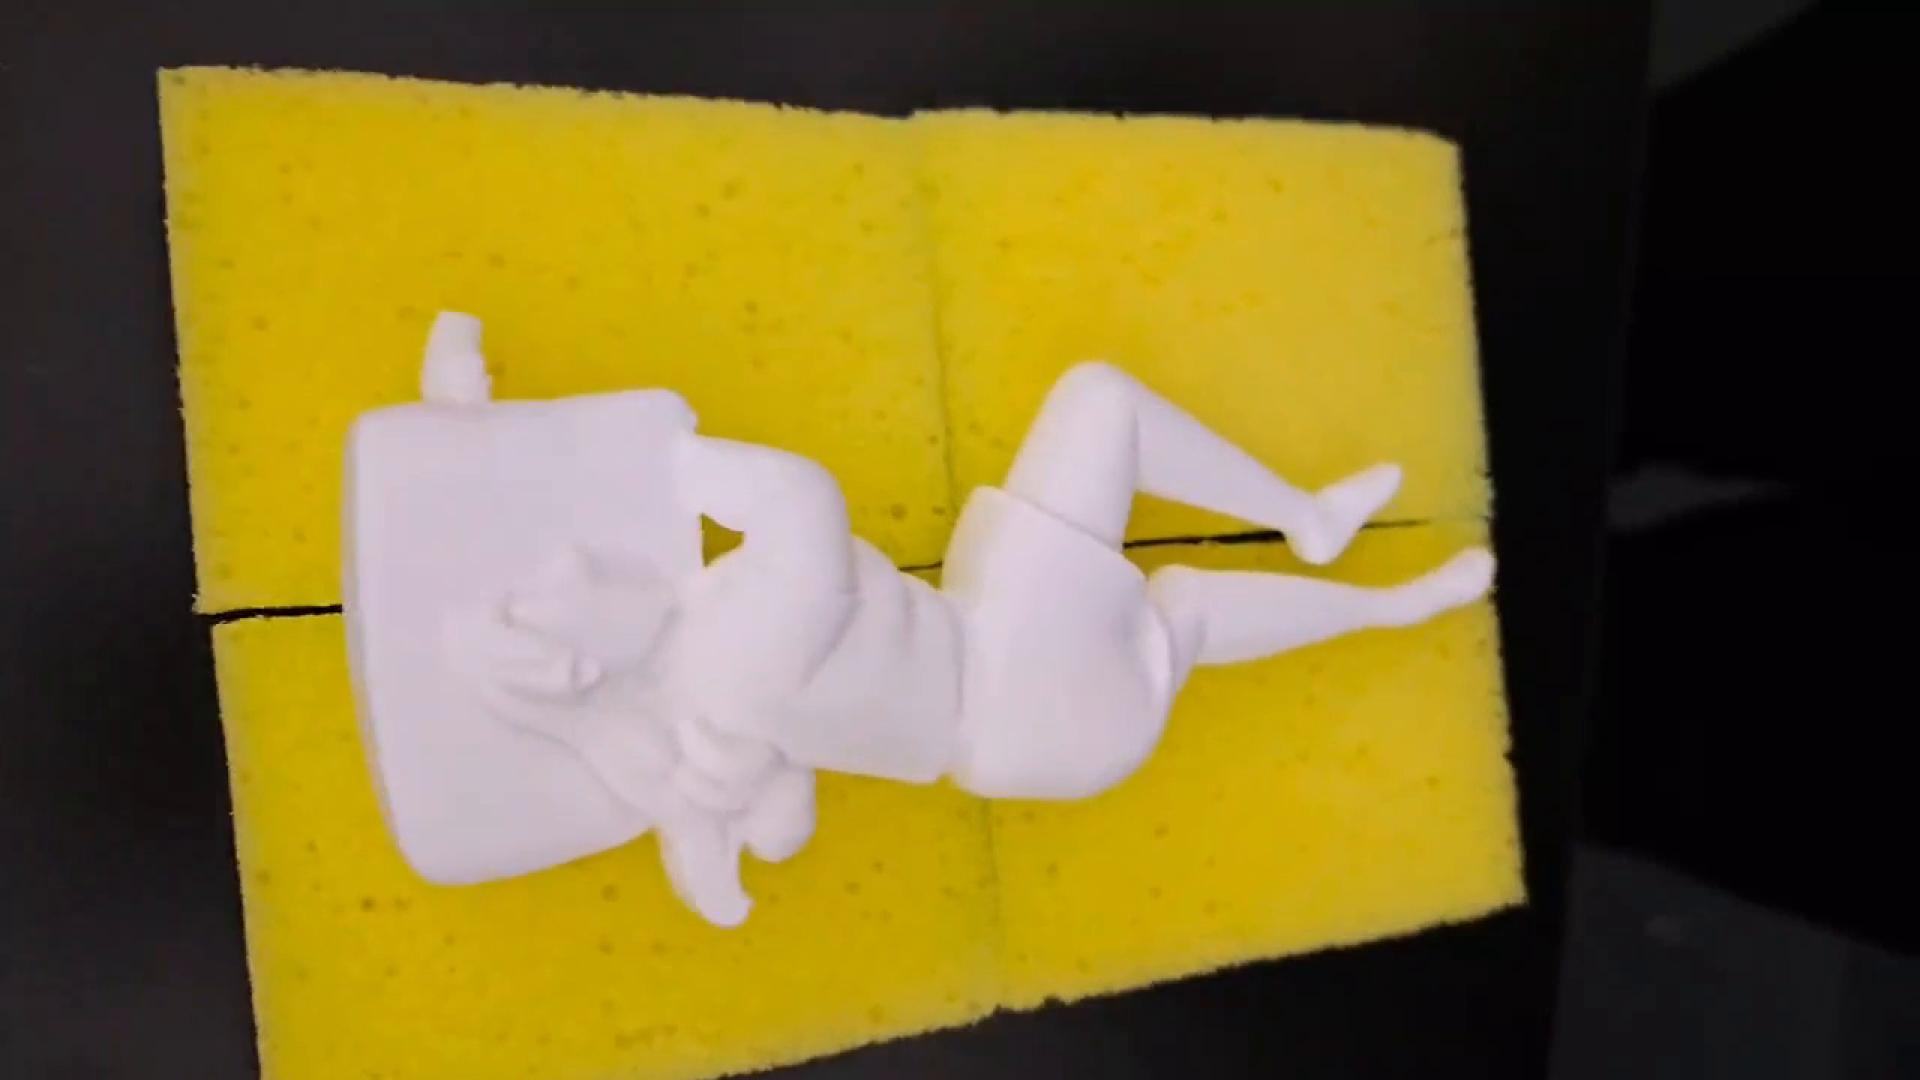Good-style: (351, 298, 1502, 931)
